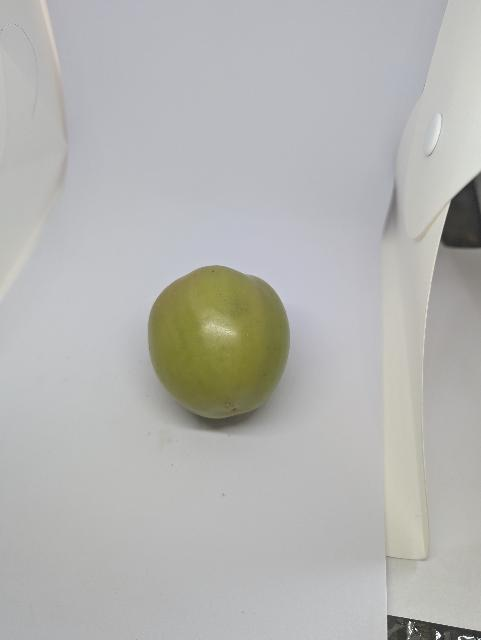green: (129, 256, 302, 432)
